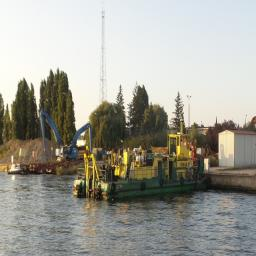tugboat: (72, 118, 209, 206)
